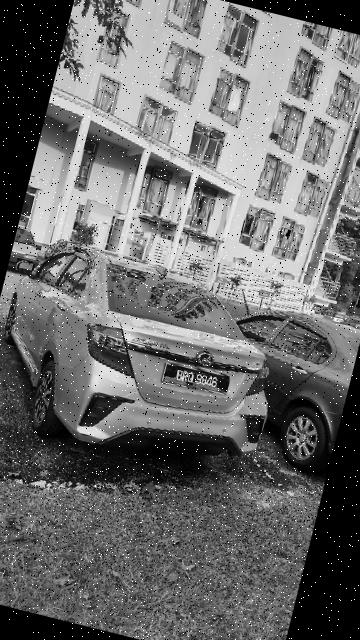License_Plate: (158, 357, 238, 403)
car: (1, 231, 299, 488), (202, 297, 360, 482), (8, 226, 48, 278), (323, 311, 349, 327), (343, 315, 360, 330), (313, 307, 329, 318)
